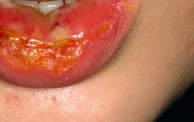SJS-TEN: (0, 0, 165, 122)
